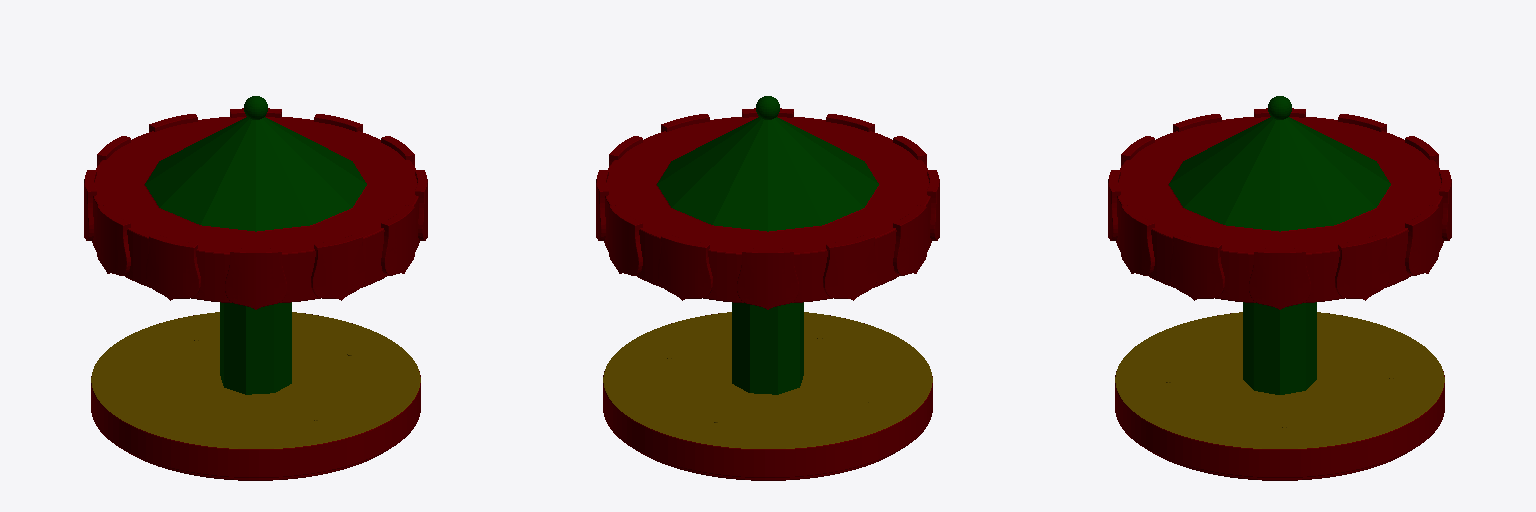
File: carrossel_base.obj
3 renders of one model, left to right at view 1: azimuth 30°, elevation 25°; view 2: azimuth 150°, elevation 25°; view 3: azimuth 270°, elevation 25°, orthographic.
Parts seen in each view (by area): view 1: 16818_carousel_v1, 16818_carousel_v1.005_16818_carousel_v1.007, 16818_carousel_v1.003_16818_carousel_v1.005, 16818_carousel_v1.001_16818_carousel_v1.003, 16818_carousel_v1.002_16818_carousel_v1.004; view 2: 16818_carousel_v1, 16818_carousel_v1.005_16818_carousel_v1.007, 16818_carousel_v1.003_16818_carousel_v1.005, 16818_carousel_v1.001_16818_carousel_v1.003, 16818_carousel_v1.002_16818_carousel_v1.004; view 3: 16818_carousel_v1, 16818_carousel_v1.005_16818_carousel_v1.007, 16818_carousel_v1.003_16818_carousel_v1.005, 16818_carousel_v1.001_16818_carousel_v1.003, 16818_carousel_v1.002_16818_carousel_v1.004.
Boxes of the visible parts, box(x1,y1,x2,y2) form: 16818_carousel_v1: box(84, 108, 427, 309); 16818_carousel_v1.005_16818_carousel_v1.007: box(91, 312, 420, 448); 16818_carousel_v1.003_16818_carousel_v1.005: box(145, 117, 366, 231); 16818_carousel_v1.001_16818_carousel_v1.003: box(91, 313, 420, 480); 16818_carousel_v1.002_16818_carousel_v1.004: box(220, 302, 291, 394); 16818_carousel_v1: box(596, 108, 939, 309); 16818_carousel_v1.005_16818_carousel_v1.007: box(603, 312, 932, 448); 16818_carousel_v1.003_16818_carousel_v1.005: box(657, 117, 878, 231); 16818_carousel_v1.001_16818_carousel_v1.003: box(603, 313, 932, 480); 16818_carousel_v1.002_16818_carousel_v1.004: box(732, 302, 803, 394); 16818_carousel_v1: box(1108, 108, 1451, 309); 16818_carousel_v1.005_16818_carousel_v1.007: box(1115, 312, 1444, 448); 16818_carousel_v1.003_16818_carousel_v1.005: box(1169, 117, 1390, 231); 16818_carousel_v1.001_16818_carousel_v1.003: box(1115, 313, 1444, 480); 16818_carousel_v1.002_16818_carousel_v1.004: box(1243, 302, 1316, 394).
Bounding box in the file's own units: 9.74 × 9.97 × 9.74.